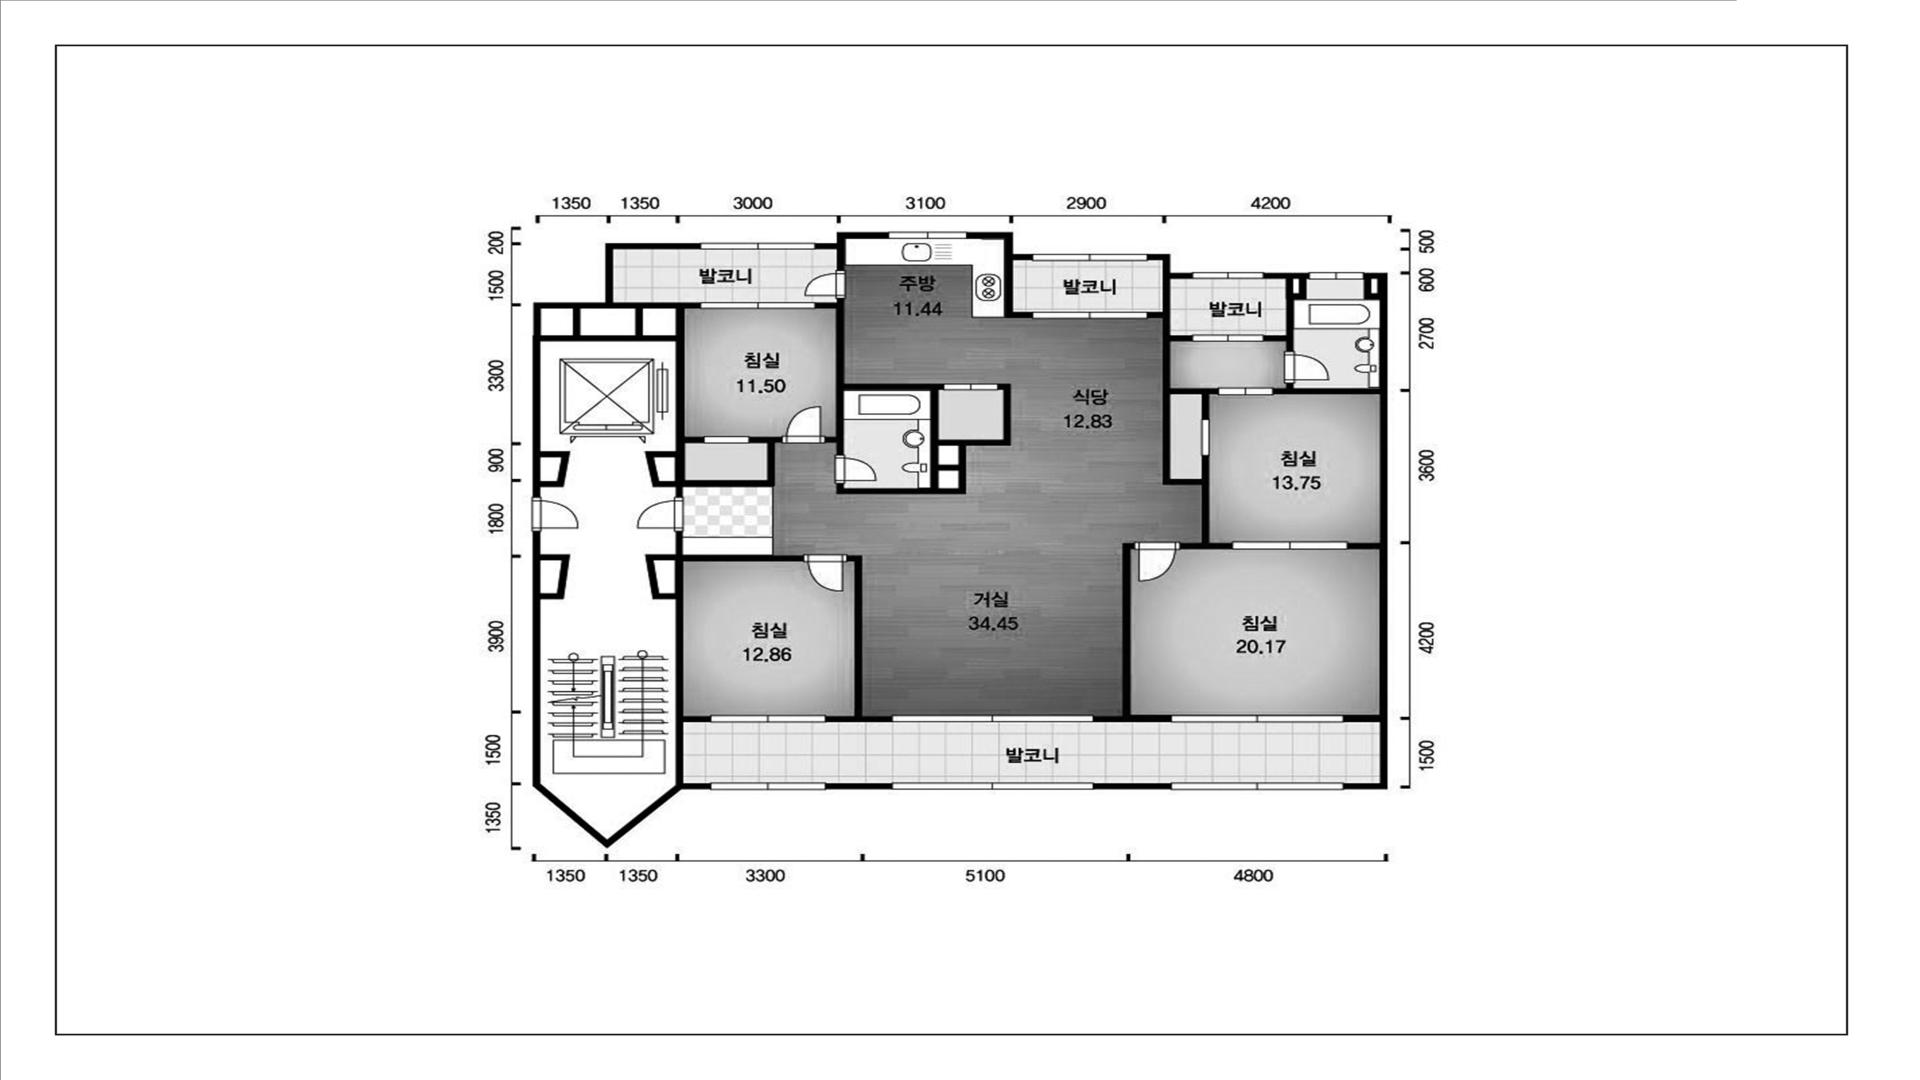door: (1134, 542, 1179, 582), (782, 405, 825, 444), (634, 497, 684, 531), (802, 554, 847, 592), (531, 497, 578, 533), (1283, 351, 1329, 384), (803, 270, 847, 299), (835, 455, 877, 484), (703, 435, 752, 443), (943, 384, 998, 390), (1201, 419, 1211, 456)
wall: (533, 531, 709, 848), (541, 243, 700, 497), (815, 299, 1011, 495), (1147, 280, 1232, 550), (1344, 273, 1387, 790), (533, 302, 605, 497), (1095, 543, 1171, 723), (827, 555, 891, 723), (683, 436, 782, 488), (1263, 278, 1307, 351), (967, 232, 1031, 260), (1004, 260, 1031, 319), (815, 232, 889, 249), (1274, 384, 1379, 394), (1149, 255, 1192, 278), (683, 555, 803, 562), (1095, 783, 1171, 790), (825, 783, 891, 790), (1364, 278, 1379, 301), (1265, 273, 1308, 280), (1344, 715, 1379, 723), (634, 309, 644, 335), (572, 309, 582, 335), (1348, 543, 1379, 550), (836, 249, 845, 270), (683, 716, 709, 723), (683, 436, 703, 443)
window: (891, 781, 1095, 790), (891, 713, 1095, 723), (1171, 782, 1344, 791), (1171, 715, 1344, 724), (1230, 541, 1348, 550), (709, 782, 825, 791), (709, 715, 827, 723), (1031, 255, 1149, 262), (1031, 311, 1147, 319), (700, 243, 815, 251), (700, 302, 815, 309), (889, 231, 967, 239), (1192, 272, 1265, 280), (1192, 334, 1263, 342), (1217, 388, 1274, 396), (1308, 272, 1365, 280)
